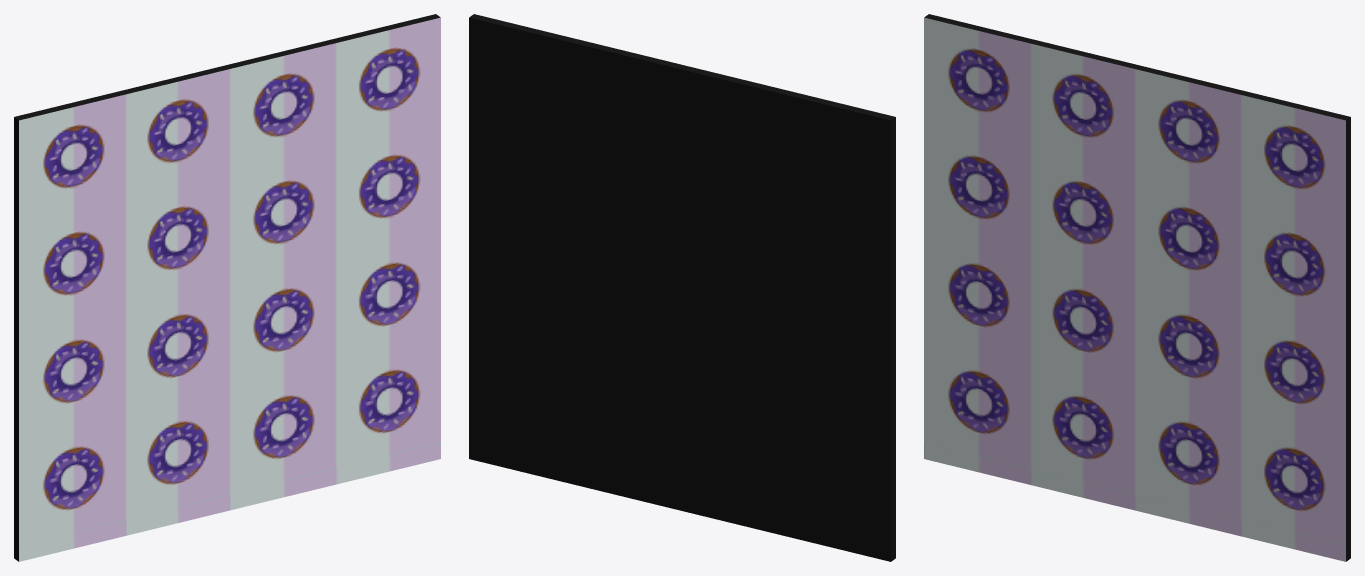
File: Wall_B_02.FBX
The picture shows the model from 3 angles, left to right: view 1: azimuth 30°, elevation 25°; view 2: azimuth 150°, elevation 25°; view 3: azimuth 330°, elevation 25°; orthographic projection.
Parts seen in each view (by area): view 1: Wall_B; view 2: Wall_B; view 3: Wall_B.
Boxes of the visible parts, x1,y1,x2,y2 form: Wall_B: (14, 14, 440, 561); Wall_B: (469, 14, 895, 561); Wall_B: (924, 14, 1350, 561).
Size of the model in its own units: 500 by 500 by 10.
